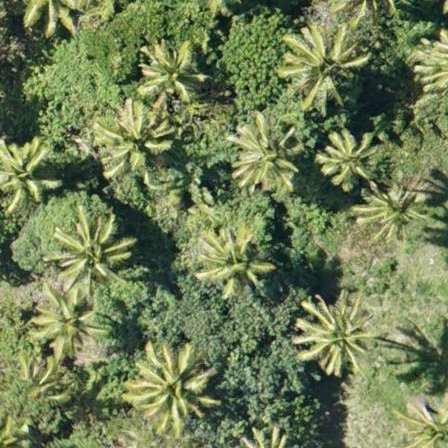palm_tree: (135, 348, 211, 429), (101, 103, 170, 177), (230, 125, 297, 197), (298, 299, 364, 370), (289, 29, 355, 99), (32, 279, 98, 349), (60, 219, 121, 285), (138, 42, 201, 104), (359, 175, 420, 239), (202, 227, 260, 290), (319, 130, 376, 189), (1, 138, 45, 203), (400, 393, 448, 448)
